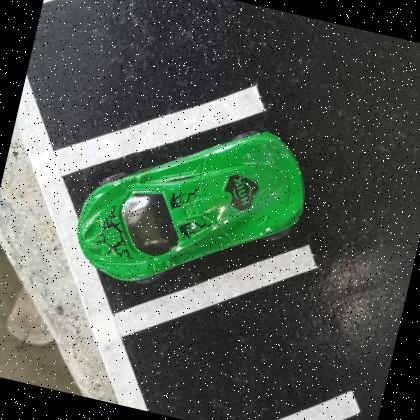Car: (76, 129, 304, 281)
